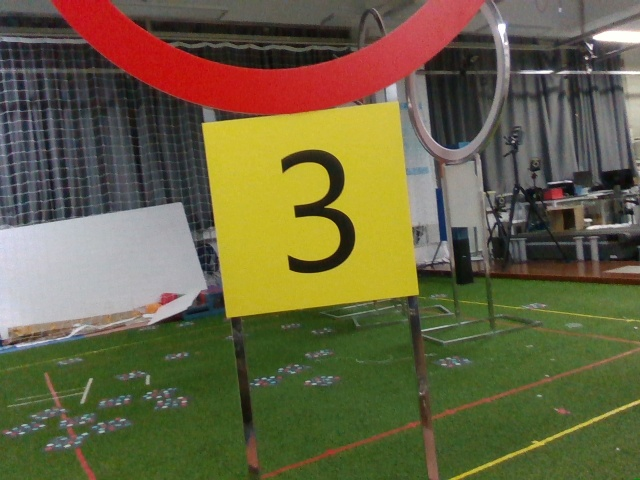target: (212, 112, 415, 305)
